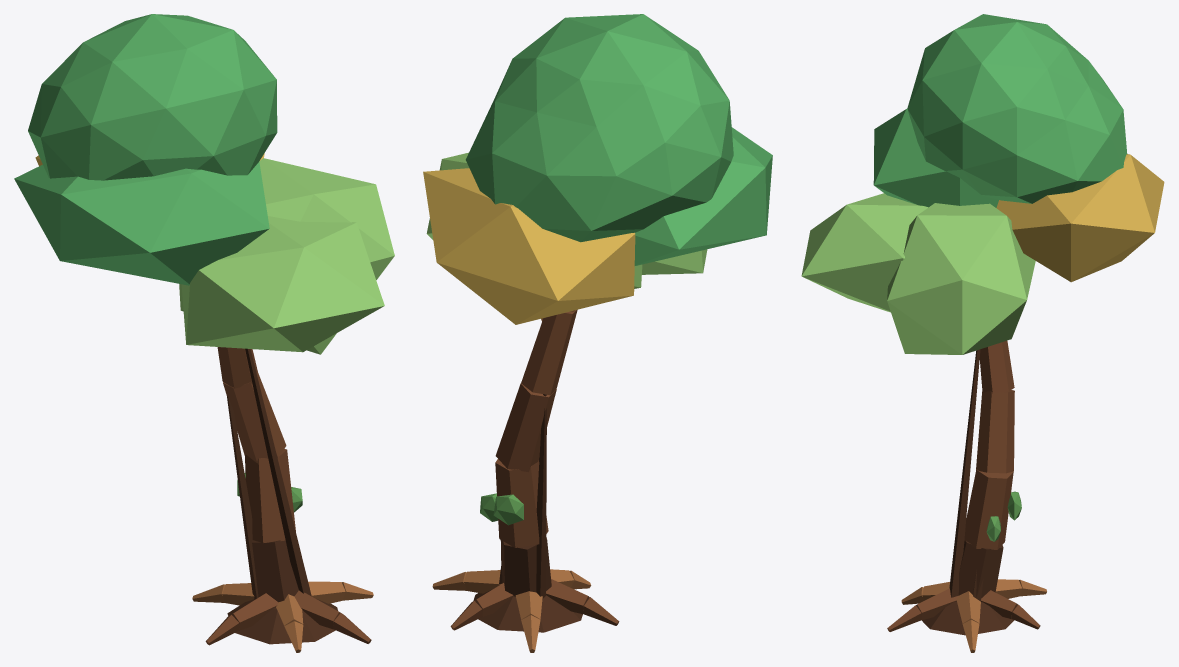
File: tree_crooked_b.glb
The picture shows the model from 3 angles, left to right: view 1: azimuth 30°, elevation 25°; view 2: azimuth 150°, elevation 25°; view 3: azimuth 270°, elevation 25°; orthographic projection. The views are drawn at different scales.
Parts seen in each view (by area): view 1: TreeCrookedB; view 2: TreeCrookedB; view 3: TreeCrookedB.
Part boxes in pixels (x1,y1,x2,y2): TreeCrookedB: (14, 14, 394, 652); TreeCrookedB: (423, 14, 772, 652); TreeCrookedB: (801, 14, 1164, 652).
Size of the model in its own units: 7.63 by 13.51 by 8.09.
